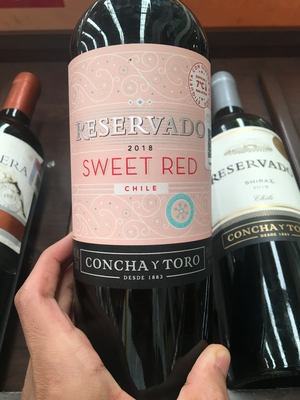reservado sweet red: (63, 9, 222, 372)
